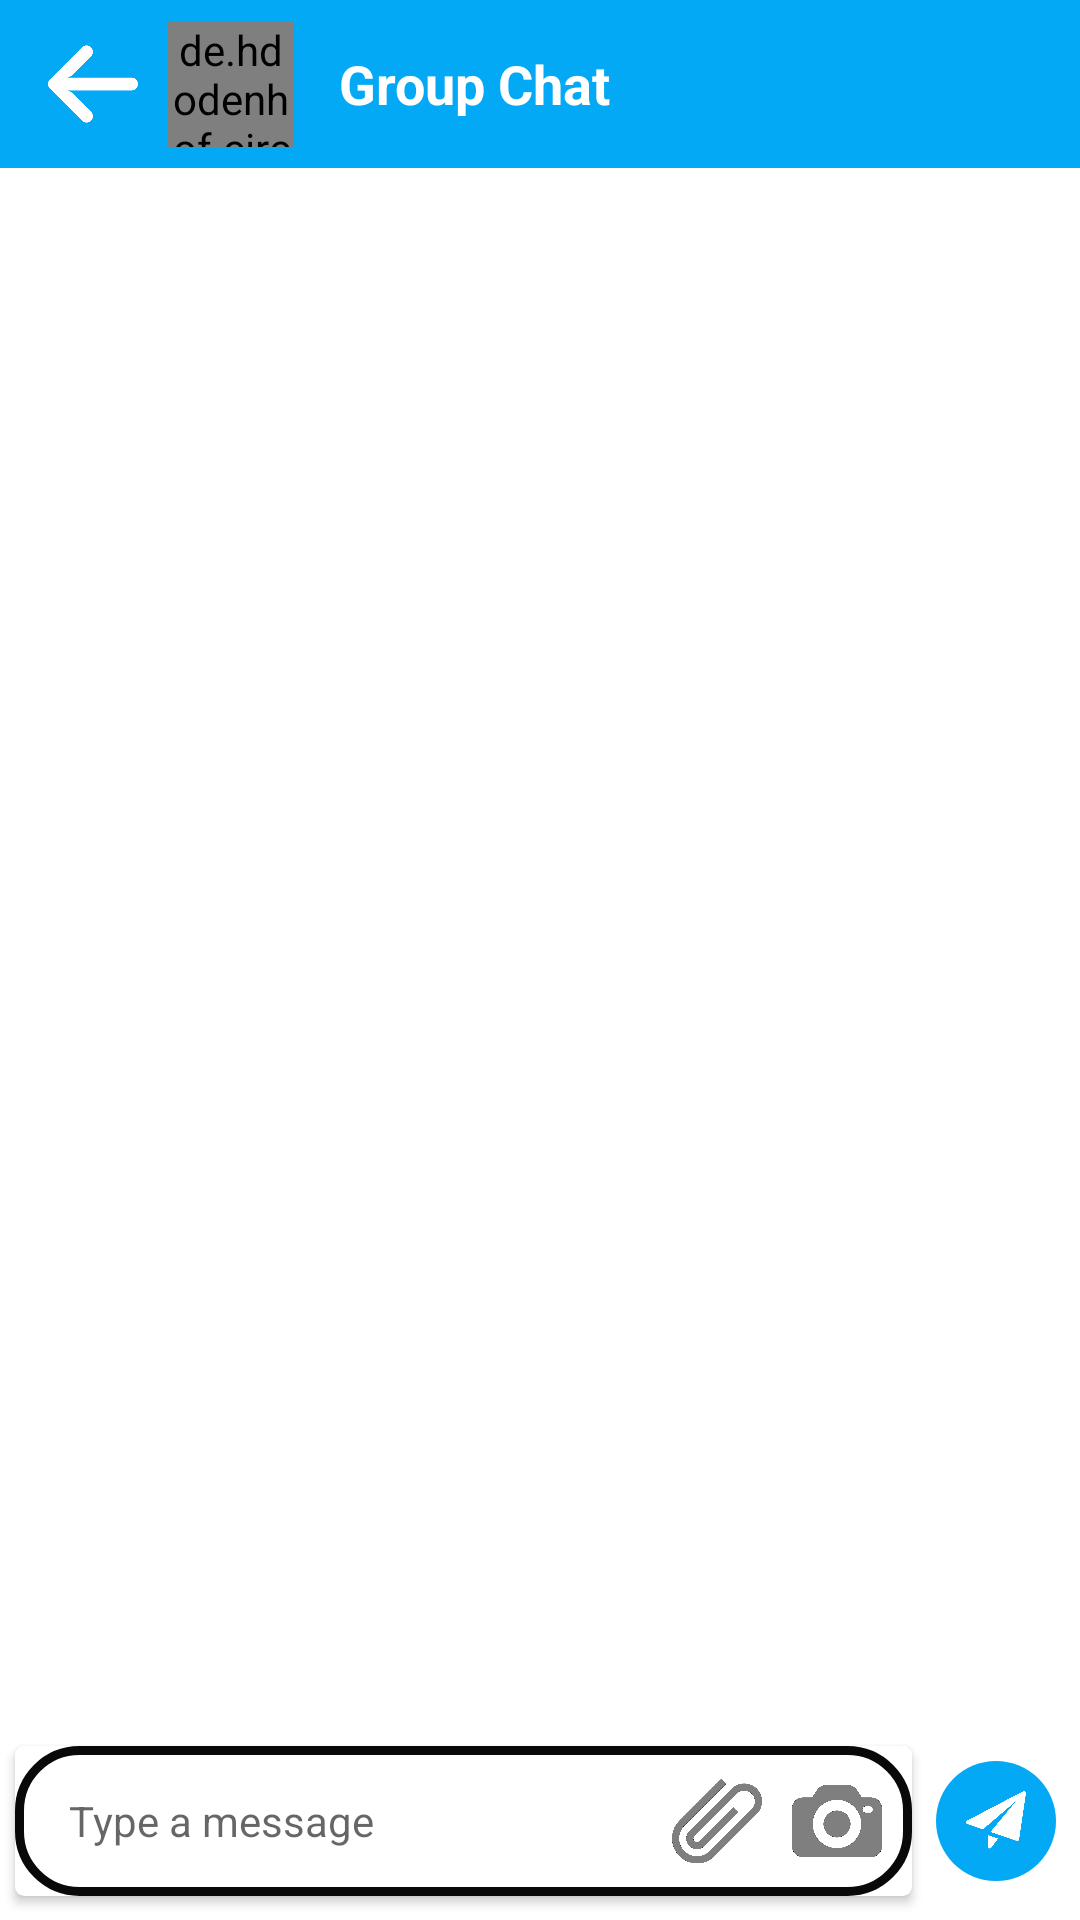

Icons on this 1080 × 1920 Android screen, each with its box as (x1, y1, x2, y2):
attachments: (672, 1779, 762, 1863)
camera: (792, 1785, 882, 1857)
left arrow: (48, 45, 138, 123)
send: (936, 1761, 1056, 1881)
